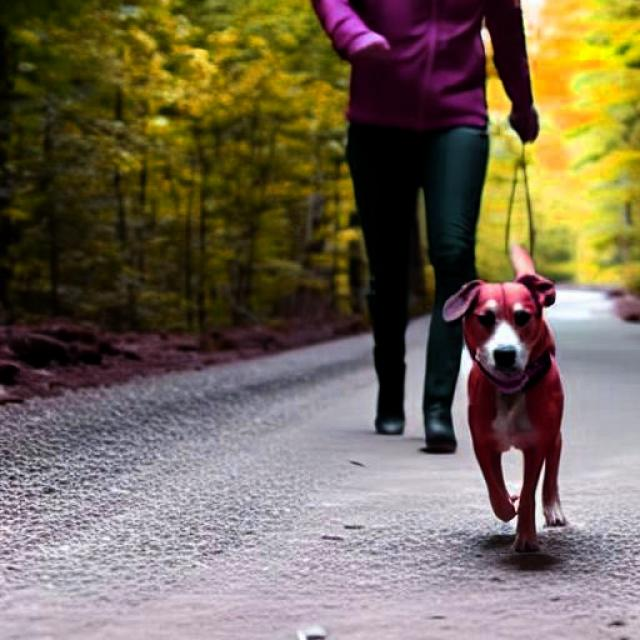Leashed_Dog: (346, 108, 568, 554)
